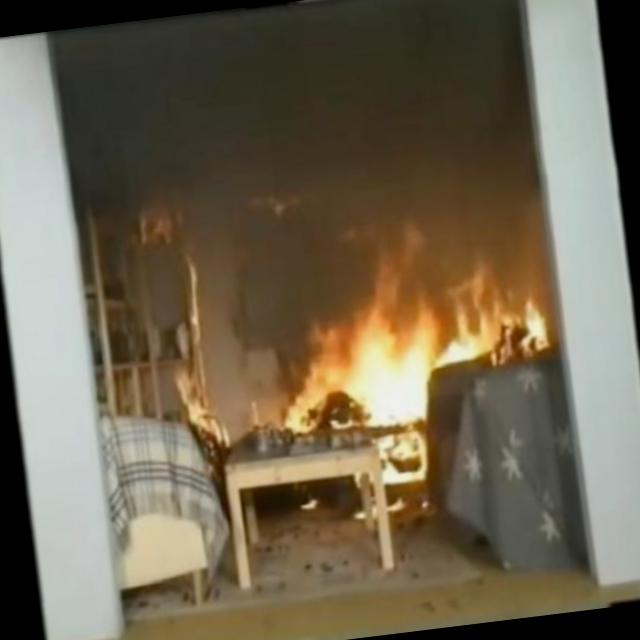fire: (282, 274, 554, 444)
